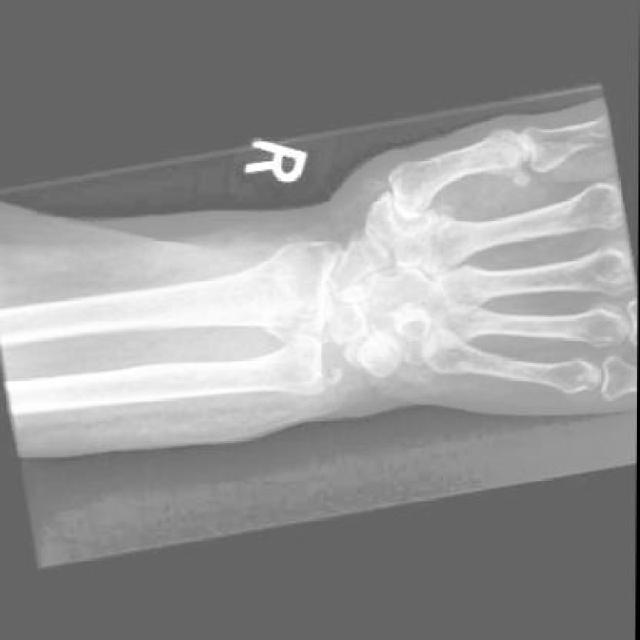Fracture: (246, 238, 311, 337), (314, 363, 344, 391)
